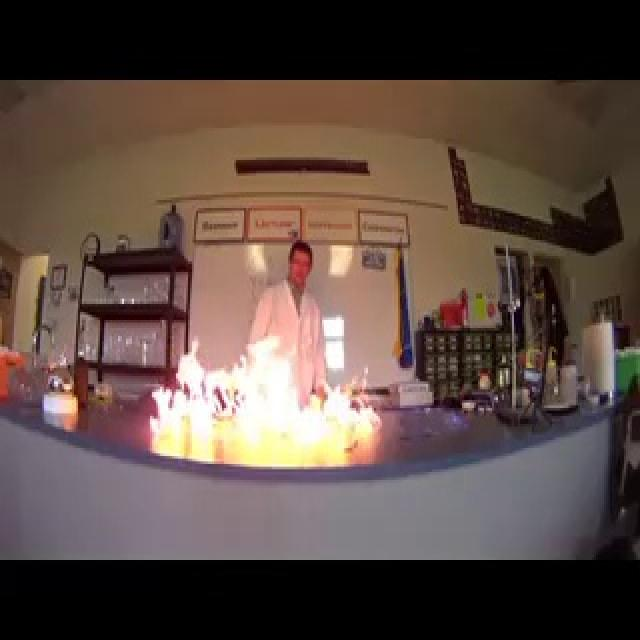fire: (143, 327, 385, 440)
